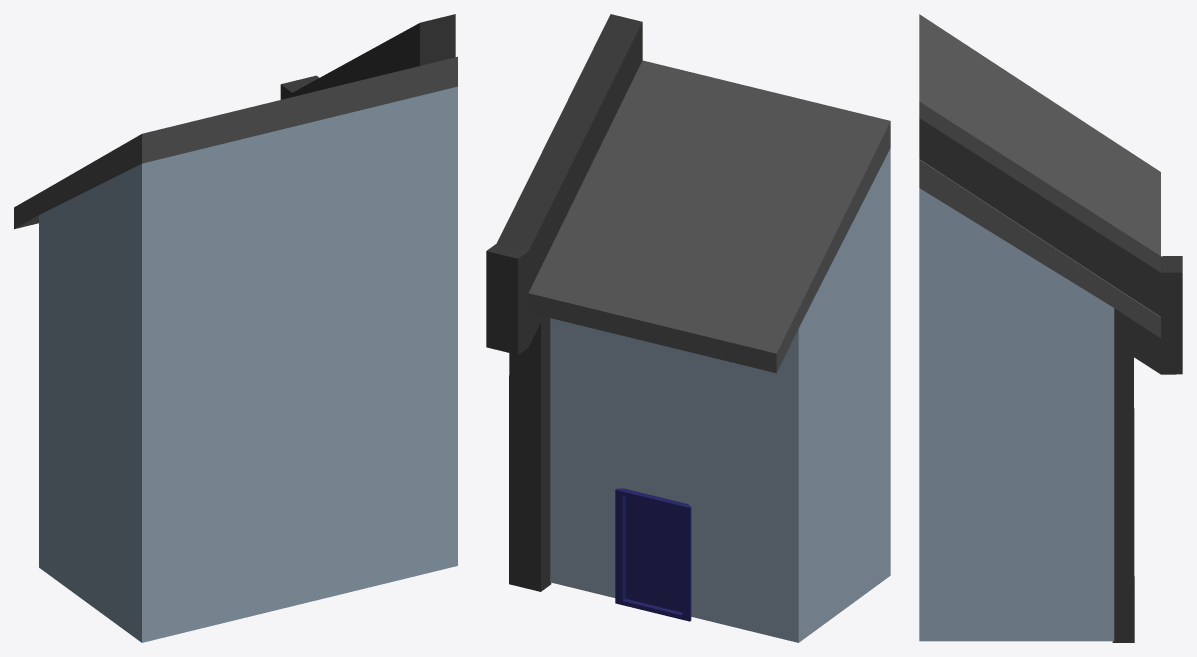
Rendered from Building.fbx.
3 views of the same model, side by side, from view 1: azimuth 30°, elevation 25°; view 2: azimuth 150°, elevation 25°; view 3: azimuth 270°, elevation 25° (orthographic). The views are drawn at different scales.
Parts seen in each view (by area): view 1: House.001; view 2: House.001; view 3: House.001.
Boxes of the visible parts, left/top/right/bottom form: House.001: left=14, top=14, right=457, bottom=642; House.001: left=486, top=14, right=890, bottom=642; House.001: left=919, top=14, right=1182, bottom=642.
Bounding box in the file's own units: 555 × 933 × 425.
